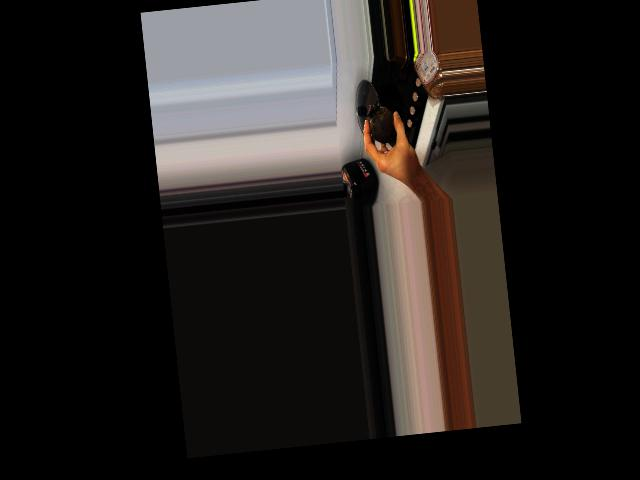beet: (367, 101, 396, 146)
